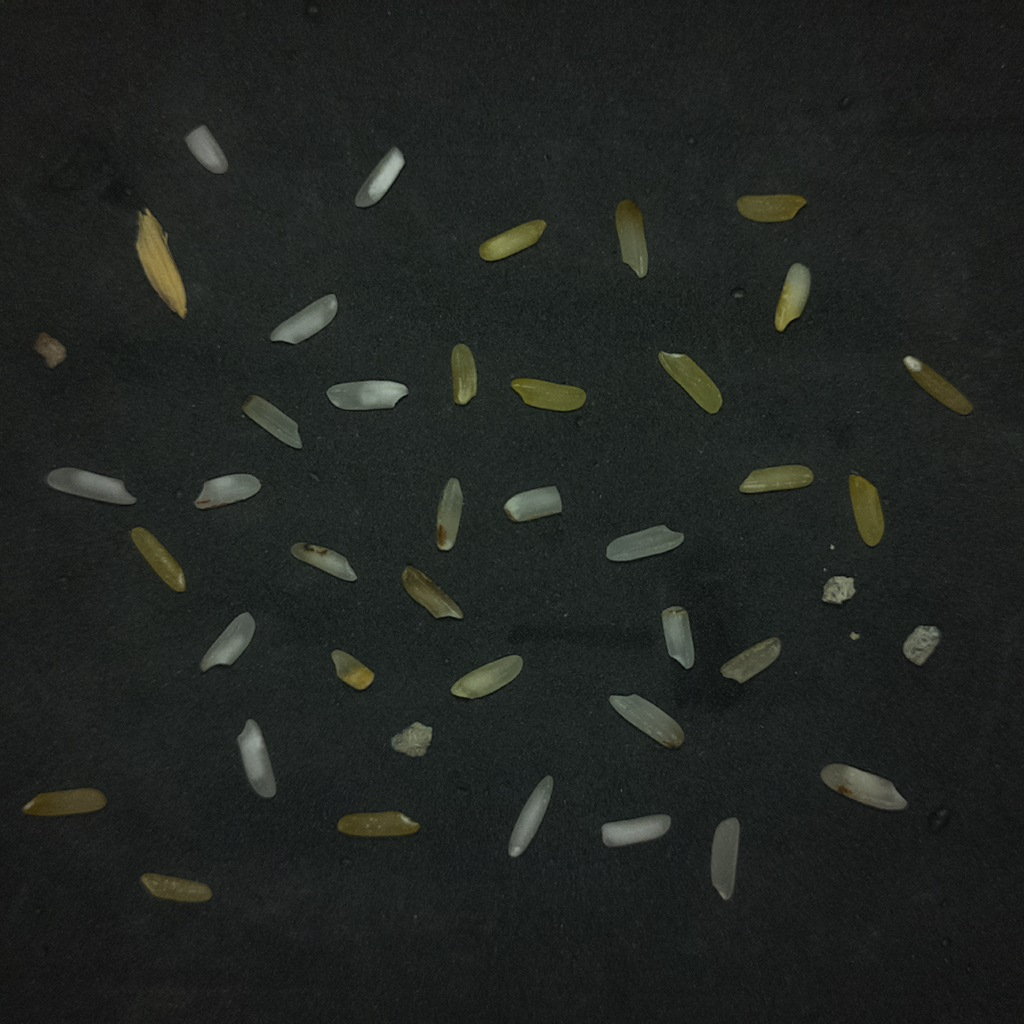broken: (503, 486, 562, 521), (185, 124, 226, 172)
chalky: (509, 776, 550, 855), (271, 296, 336, 342), (354, 147, 403, 206), (237, 720, 274, 796), (327, 380, 406, 409), (602, 814, 669, 846)
damaged: (820, 763, 906, 810), (609, 694, 683, 748), (242, 395, 301, 448), (720, 637, 780, 682), (291, 542, 356, 581), (436, 478, 463, 550), (663, 606, 694, 668), (33, 332, 66, 368)
discolored: (903, 356, 972, 414), (658, 351, 722, 413), (131, 527, 185, 592), (402, 566, 463, 619), (450, 655, 523, 698), (479, 220, 546, 261), (615, 200, 647, 278), (511, 378, 586, 411), (849, 474, 883, 546), (774, 263, 810, 331), (22, 788, 106, 816), (337, 811, 419, 837), (140, 873, 211, 902), (740, 465, 813, 492), (737, 194, 806, 222), (331, 650, 374, 690), (451, 343, 477, 404)
foreign: (904, 624, 940, 663), (391, 722, 431, 755), (823, 576, 854, 603)
paddy: (136, 209, 186, 318)
red: (195, 473, 260, 509)
whole: (200, 612, 254, 670), (46, 468, 134, 503), (607, 524, 682, 560), (710, 818, 739, 900)
